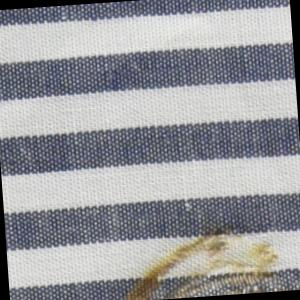Oil Stain: (116, 215, 285, 300)
